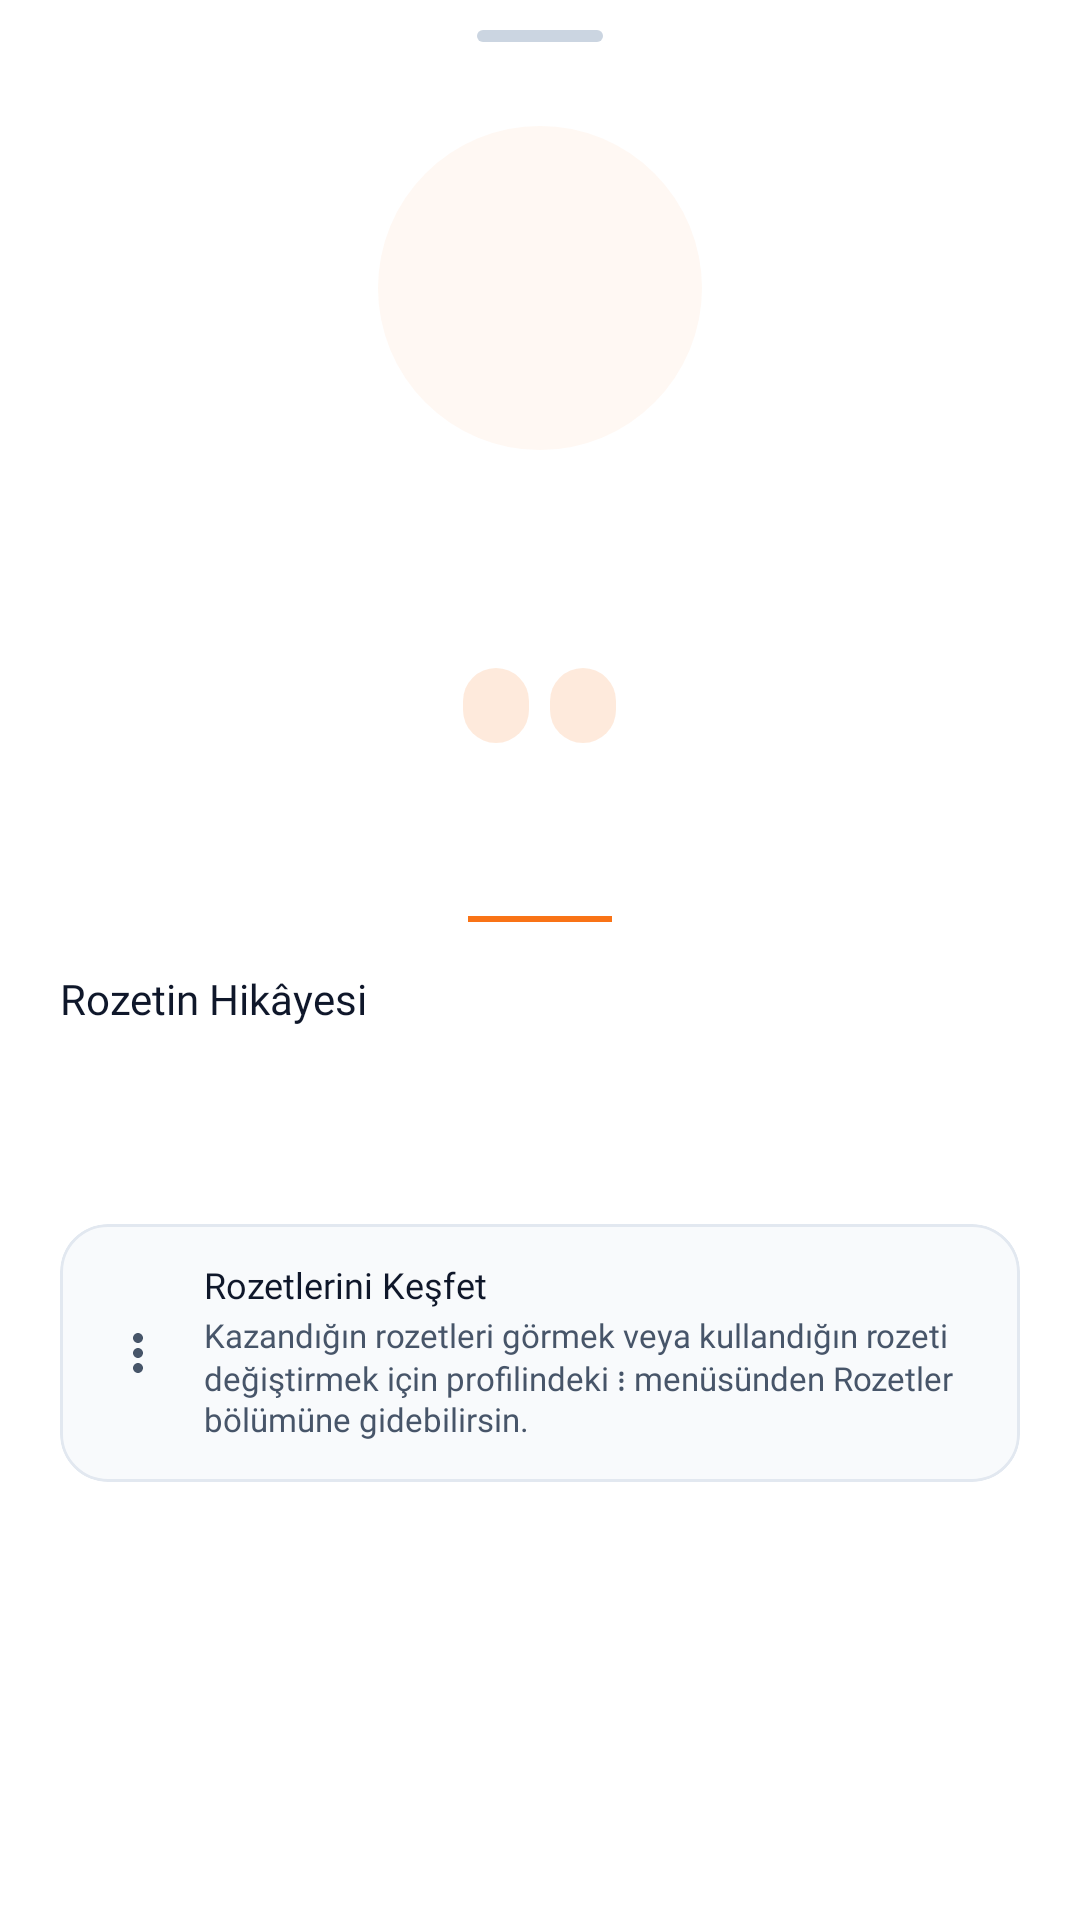

Screen size 1080*1920. Icon name, then its box in pixels as box=[x1, y1, x2, y2]:
more vert: box=[133, 1333, 143, 1373]
